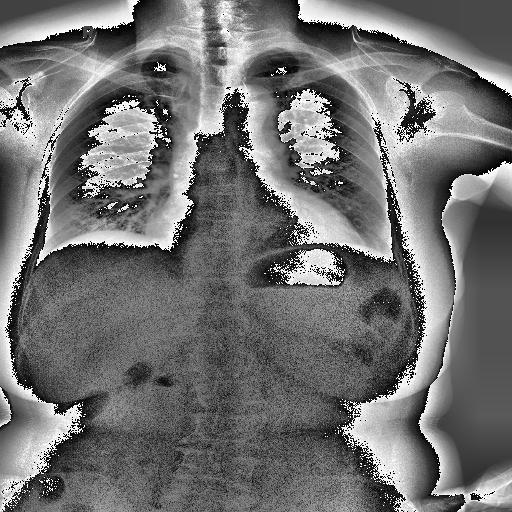0- Aortic enlargement: (233, 86, 281, 145), (224, 83, 274, 128), (227, 84, 273, 122)
3- Cardiomegaly: (142, 182, 366, 252), (142, 197, 362, 243), (150, 212, 364, 256)
